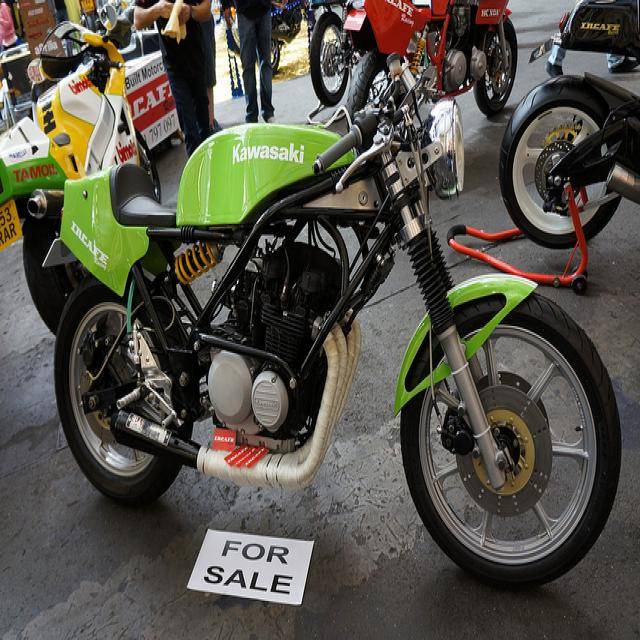motor: (24, 51, 624, 589), (447, 69, 638, 293), (2, 17, 168, 246), (347, 4, 520, 119), (308, 1, 355, 105), (269, 0, 299, 74)
